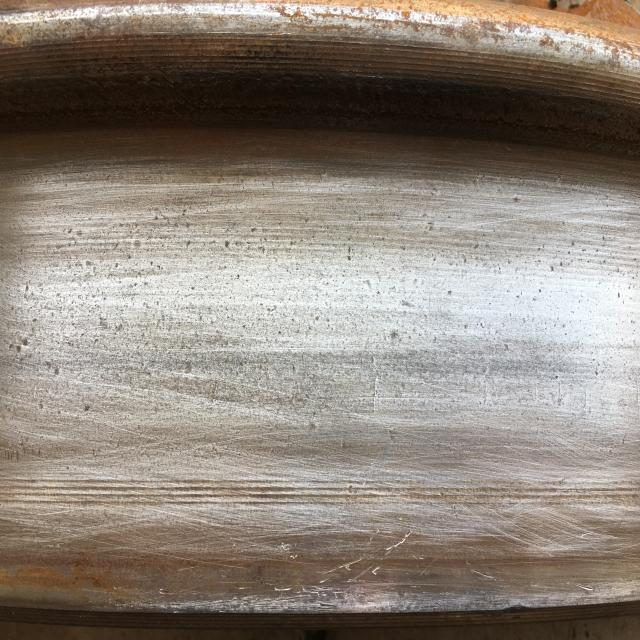Contact_Fatigue_Cracks: (371, 370, 380, 416), (534, 379, 541, 405), (558, 377, 563, 402), (636, 387, 640, 413), (584, 387, 588, 411)
